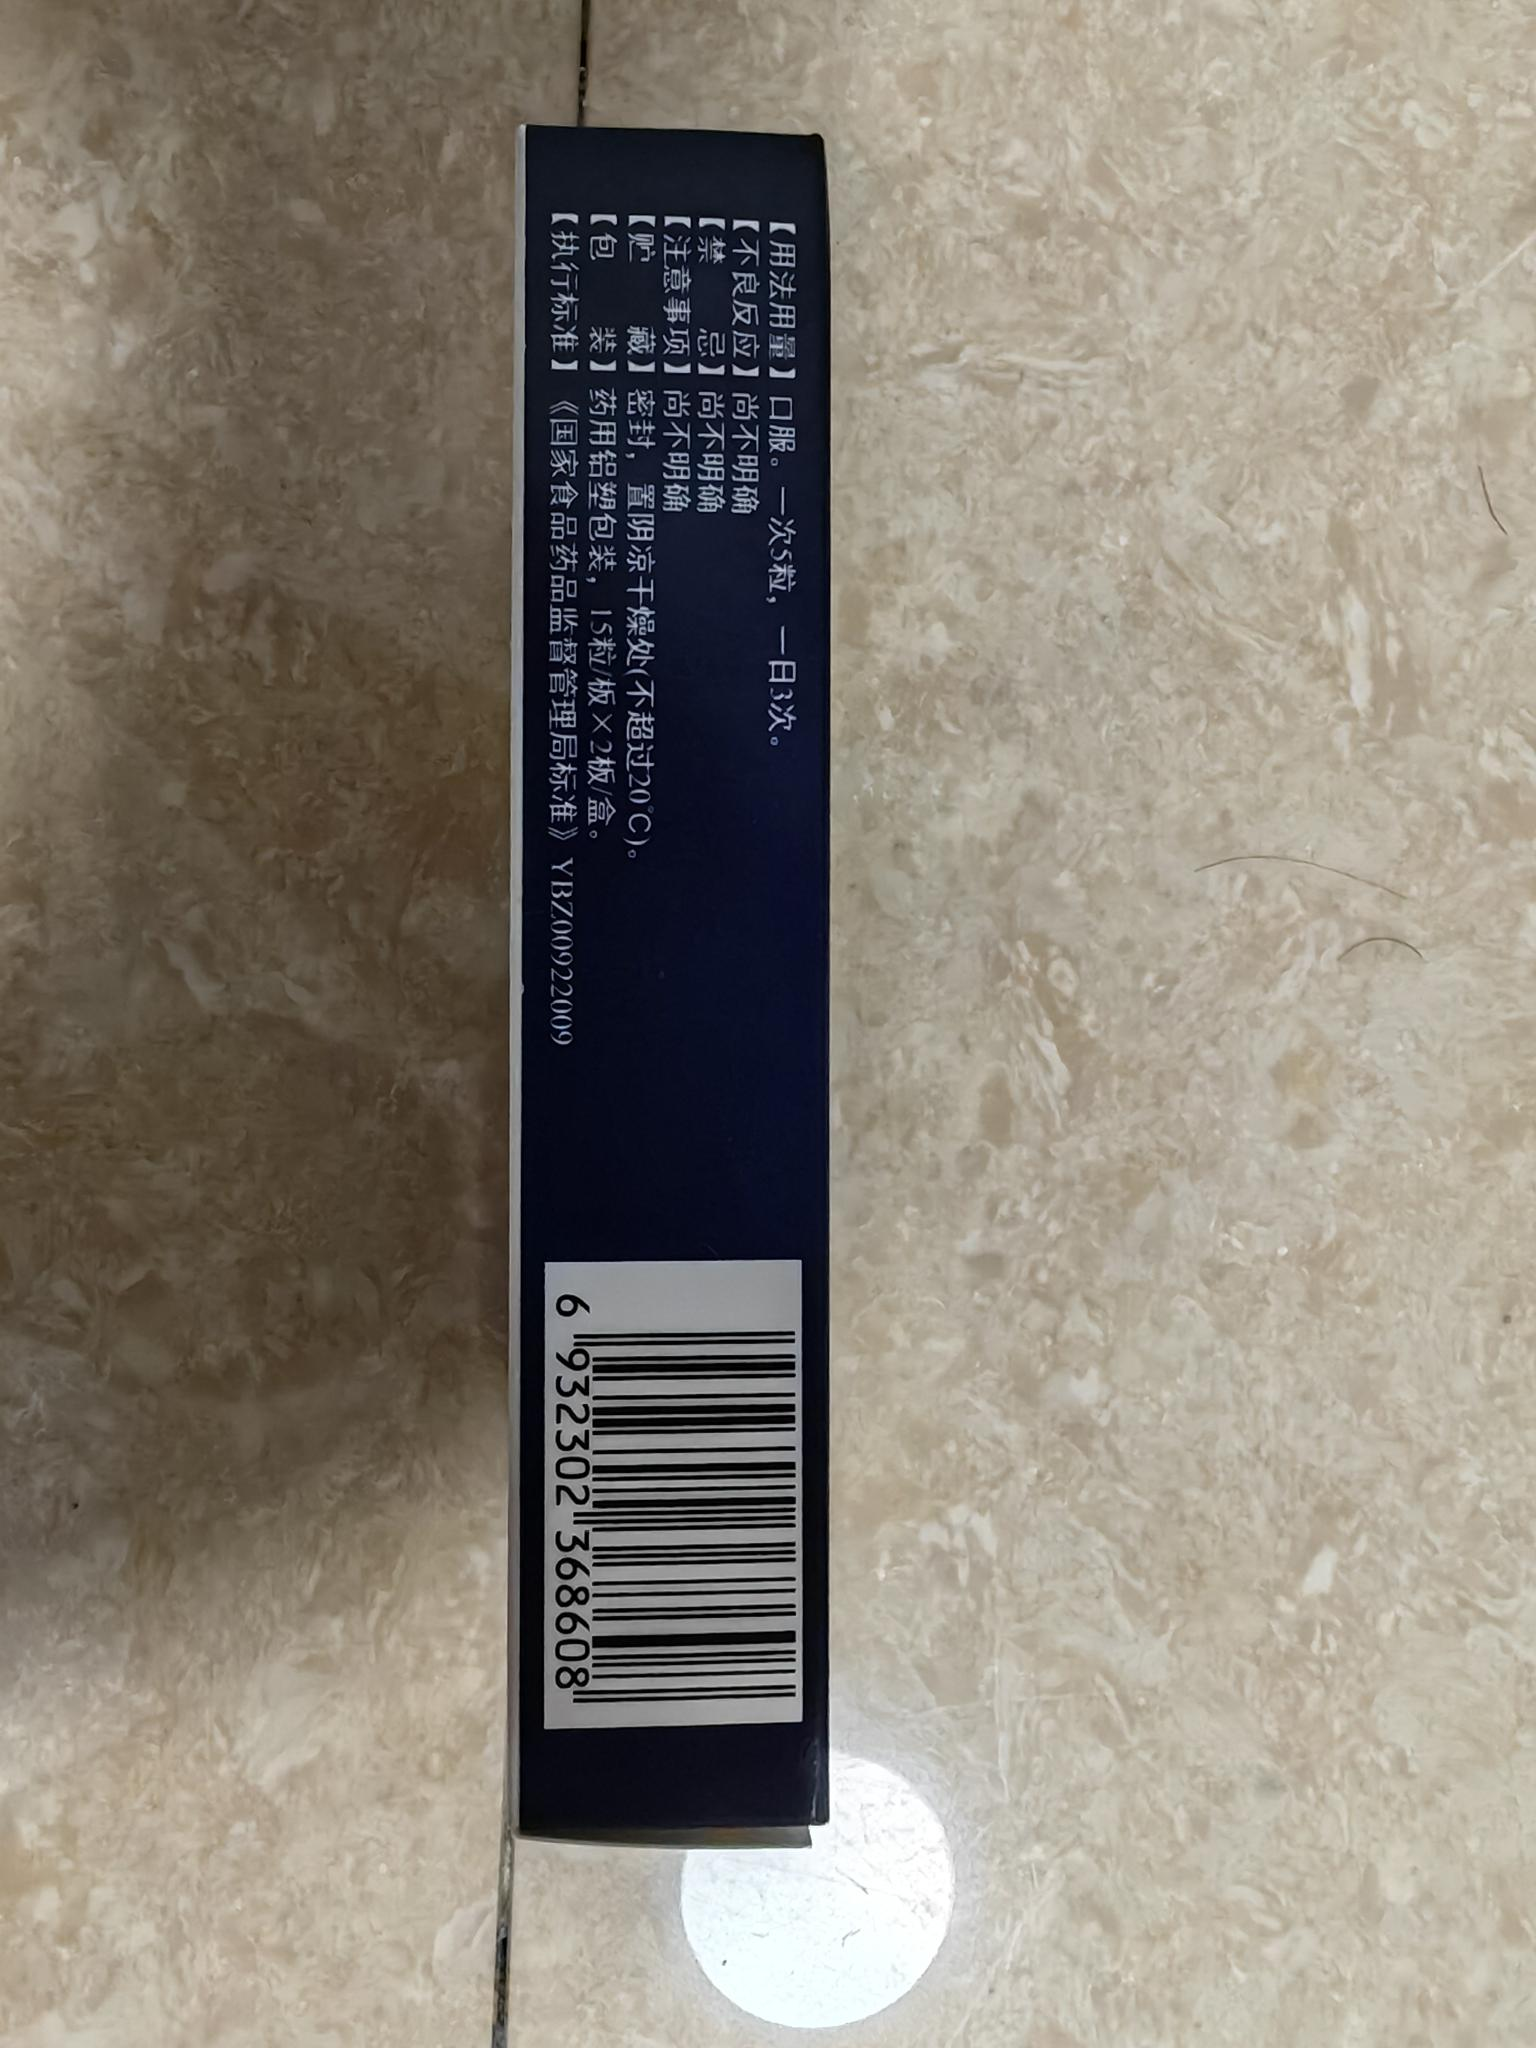Medicine2: (487, 103, 855, 1872)
